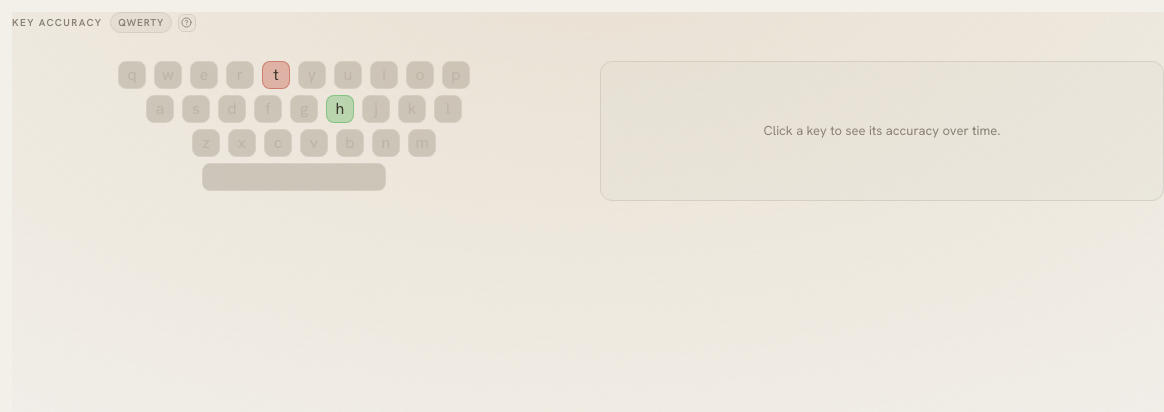
Scenario: KeyAccuracyBoard › shows default prompt then trend after key click
Expected: the text with class "key-trend-empty" shows "Click a key", x1=764 y1=122 x2=1000 y2=139
Click the button named "t key": (276, 75) x1=262 y1=61 x2=290 y2=89
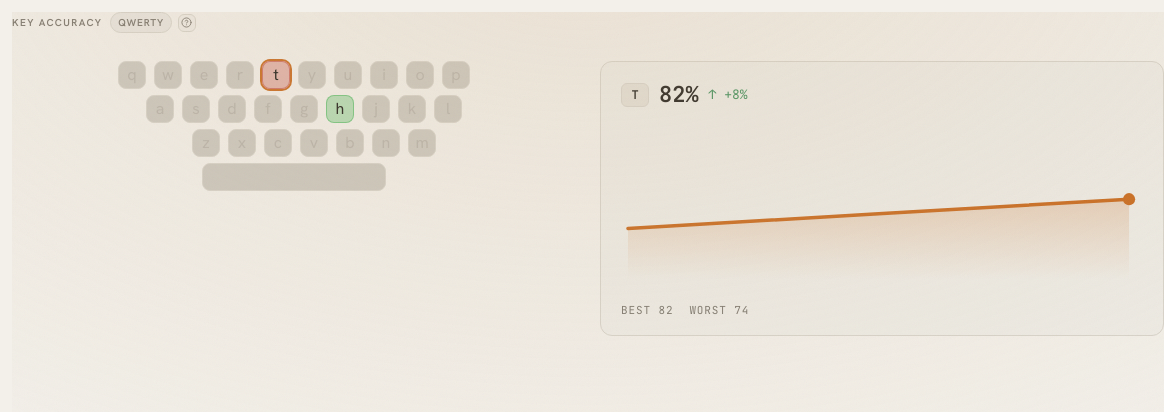
Result: the text "82%" is shown at x1=659 y1=78 x2=699 y2=111
Result: the text "Best 82" is shown at x1=621 y1=302 x2=673 y2=318
